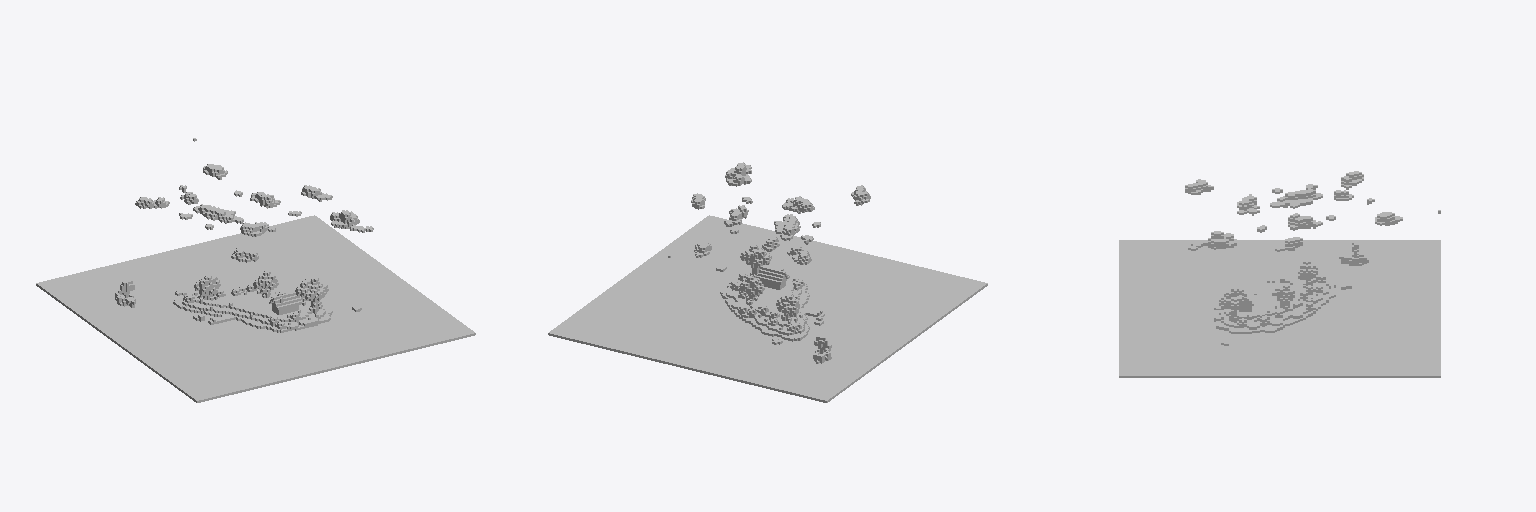
File: littleisle.obj
3 views of the same model, side by side, from view 1: azimuth 30°, elevation 25°; view 2: azimuth 150°, elevation 25°; view 3: azimuth 270°, elevation 25° (orthographic).
Size of the model in its own units: 126 by 47 by 126.